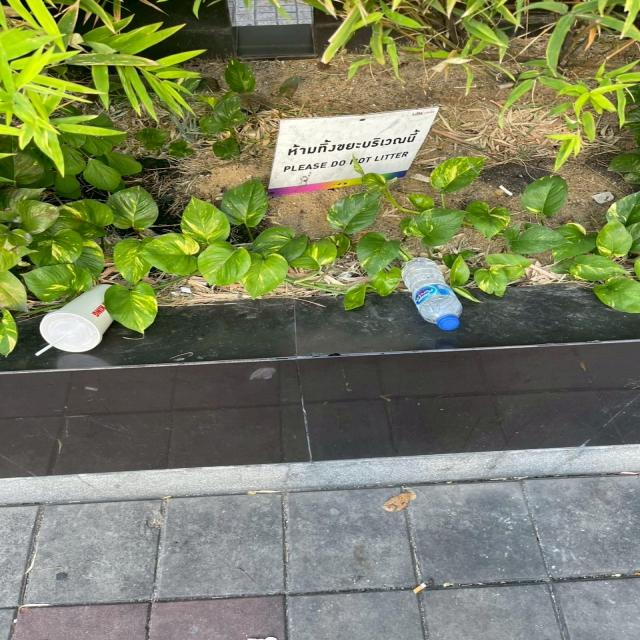paper cup: (38, 283, 121, 355)
plastic bottle: (400, 261, 468, 330)
